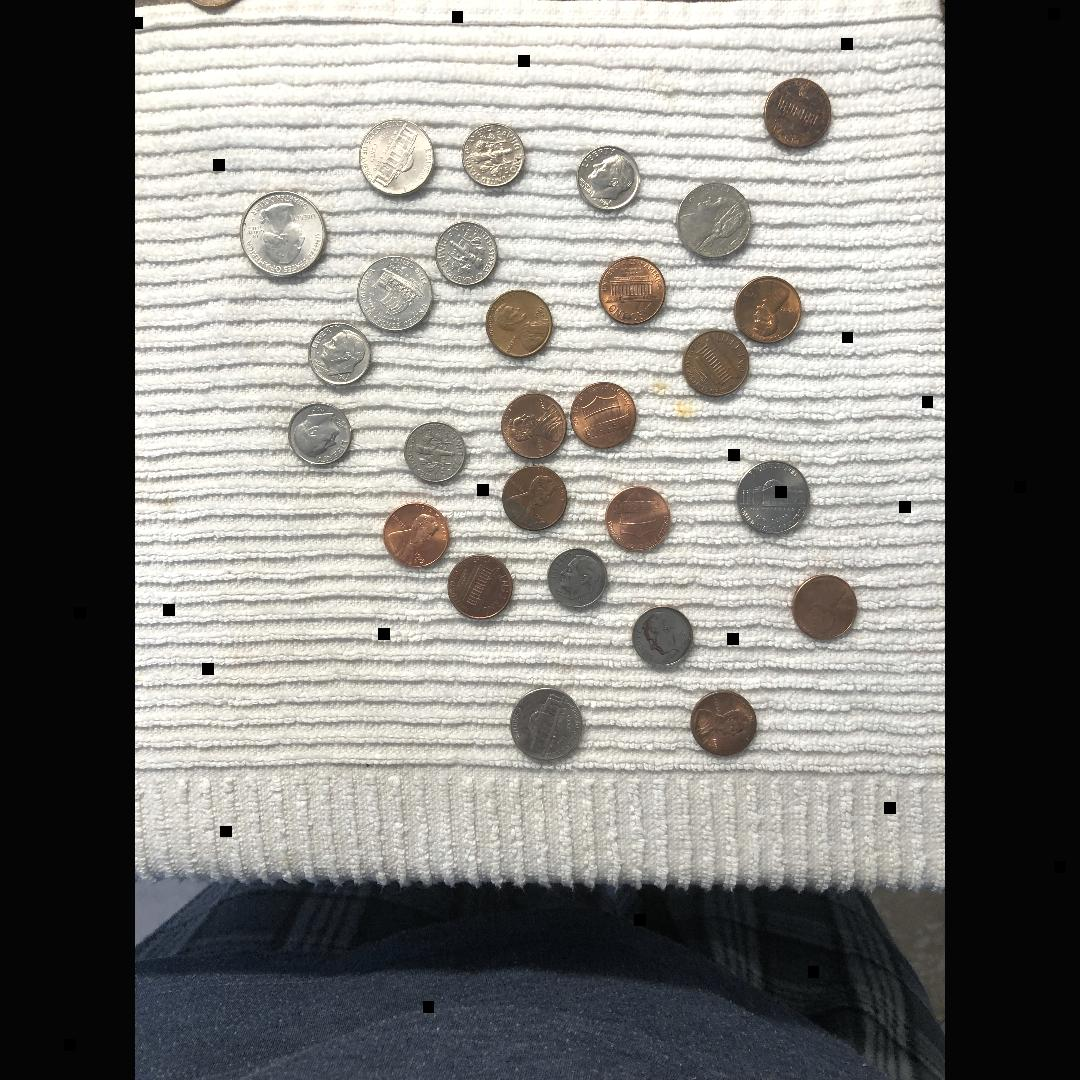Dime: (436, 218, 502, 291), (461, 123, 531, 191), (287, 401, 355, 471), (576, 144, 642, 216), (309, 320, 377, 388), (402, 422, 470, 484), (630, 608, 696, 666), (549, 548, 609, 610)
Nickel: (356, 256, 440, 338), (675, 180, 756, 264), (357, 117, 436, 201), (736, 457, 814, 540), (509, 684, 587, 766)
Penny: (760, 77, 836, 157), (788, 572, 860, 646), (485, 289, 557, 361), (500, 464, 572, 536), (597, 254, 667, 328), (379, 502, 453, 572), (734, 275, 804, 348), (688, 688, 758, 760), (680, 326, 748, 398), (604, 488, 678, 554), (502, 391, 567, 463), (572, 382, 638, 450), (450, 554, 516, 620)
Quarter: (238, 188, 330, 286)
